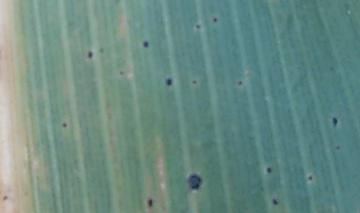tarspot: (188, 174, 202, 191), (165, 77, 174, 87), (141, 39, 150, 48), (86, 48, 93, 59), (332, 117, 339, 128), (1, 193, 9, 201), (190, 78, 198, 86), (211, 15, 219, 23), (98, 45, 105, 54), (118, 67, 124, 77), (272, 197, 279, 205), (327, 65, 335, 72), (266, 165, 272, 174), (336, 142, 342, 151), (148, 198, 153, 208), (61, 121, 68, 128), (307, 174, 314, 181), (237, 78, 243, 86), (195, 23, 202, 29)
